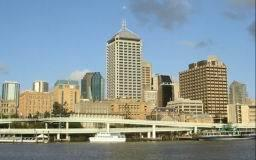building: (20, 85, 151, 114), (179, 55, 230, 117), (106, 17, 143, 100)
